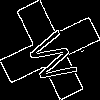W: (25, 25, 87, 88)
